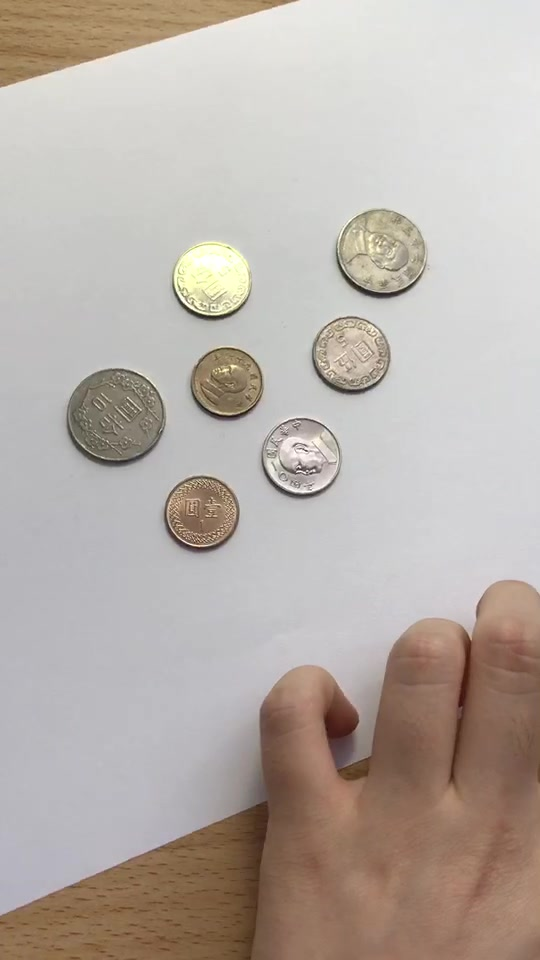1 dallar: (154, 475, 240, 550), (178, 348, 264, 423)
10 dallar: (49, 354, 177, 475), (317, 180, 445, 301)
5 dallar: (168, 223, 260, 321), (256, 408, 348, 506), (301, 310, 393, 408)
